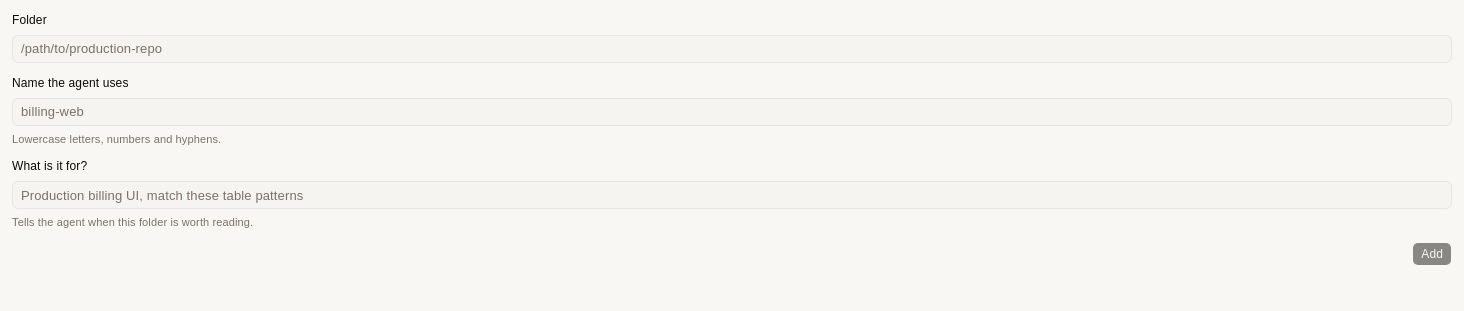
AddReferenceDirectory — not-a-git-repo notice › is absent before any inspection, absent when isGit is true, and shown when isGit is false
This screenshot has width=1464, height=311.
Type "/repos/billing-web" into the field with test id "reference-dir-path".
click(732, 49); type("/repos/billing-web")  # box [12,35,1452,63]
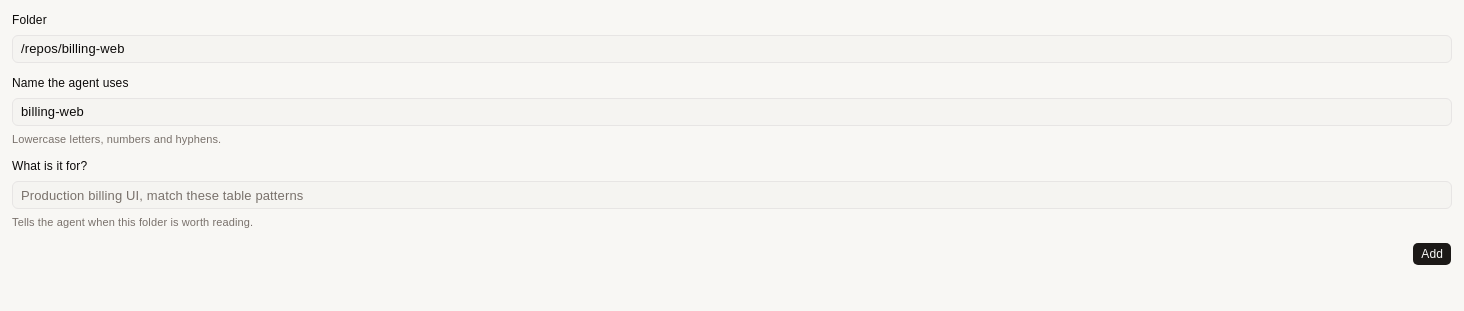
Replace the text in the field with test id "reference-dir-path" with "/repos/plain-folder" at [732, 49], box [12,35,1452,63]
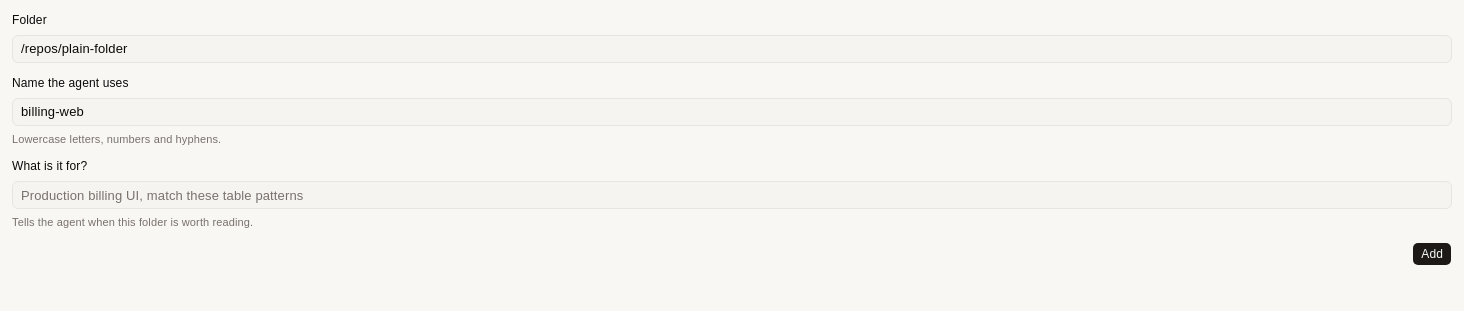
Leave the field with test id "reference-dir-path", box [12,35,1452,63]
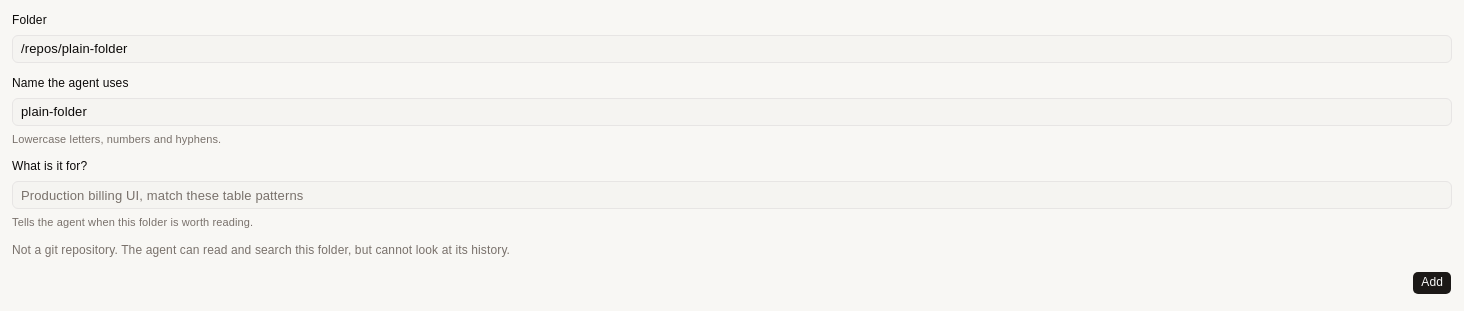
Now the text with test id "reference-dir-not-git" is shown, box [12,243,510,257]
